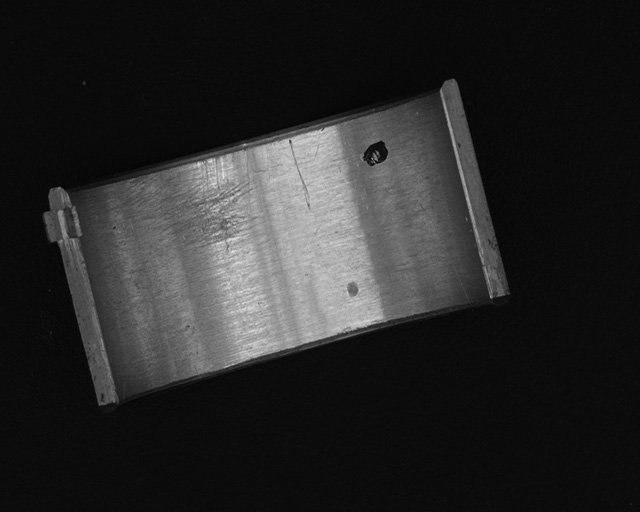blot: (361, 140, 389, 166)
bruise: (347, 280, 359, 298)
nick: (415, 201, 469, 304), (288, 139, 313, 211)
scratch: (127, 147, 256, 252)
